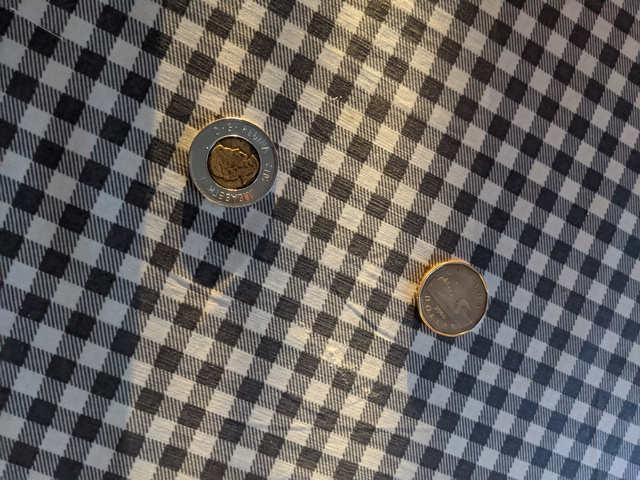loonie: (403, 251, 495, 341)
twonie: (182, 111, 293, 213)
